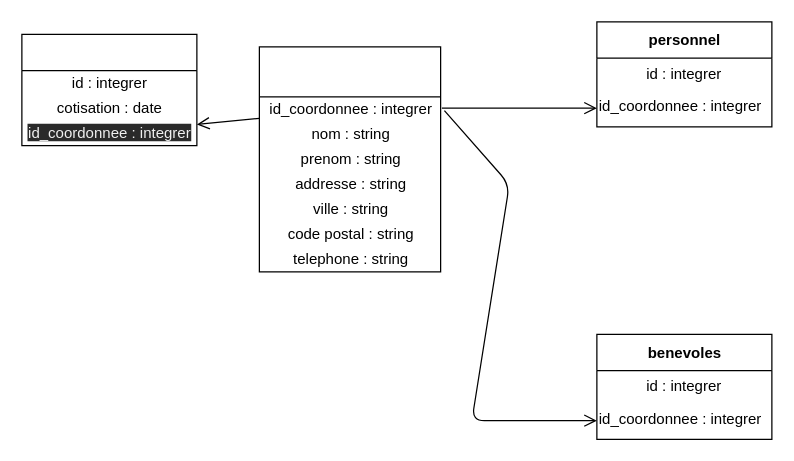
Some shapes in this 794 by 461 pixel diagram are drawn without their labels. The box of each missing label's shape, as (x1, y1, x2, y2) in pixels:
coordonnees: (258, 46, 441, 272)
utilisateur: (21, 33, 197, 146)
